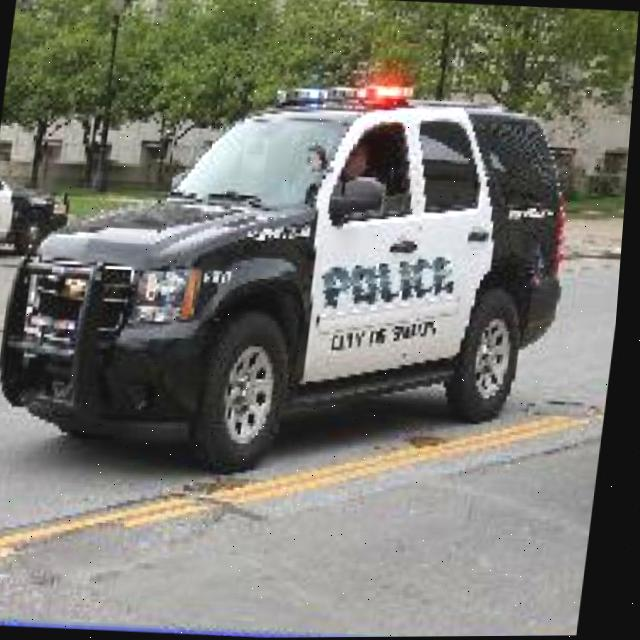emergency: (0, 42, 595, 493)
